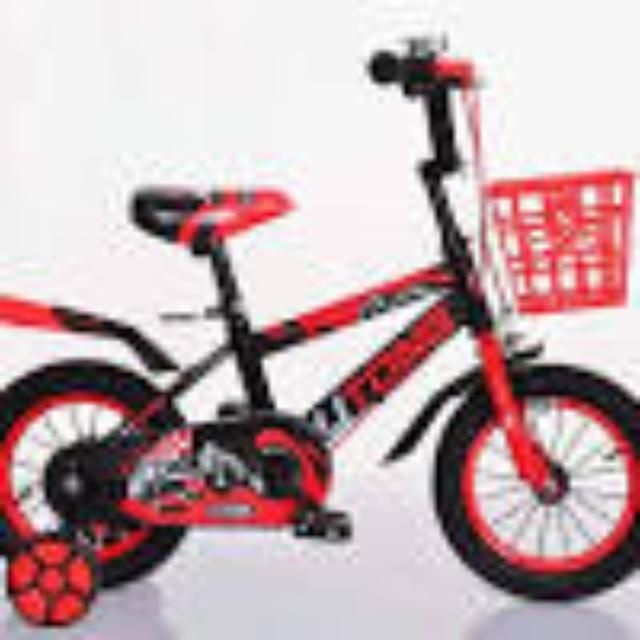obstacle: (2, 15, 640, 640)
